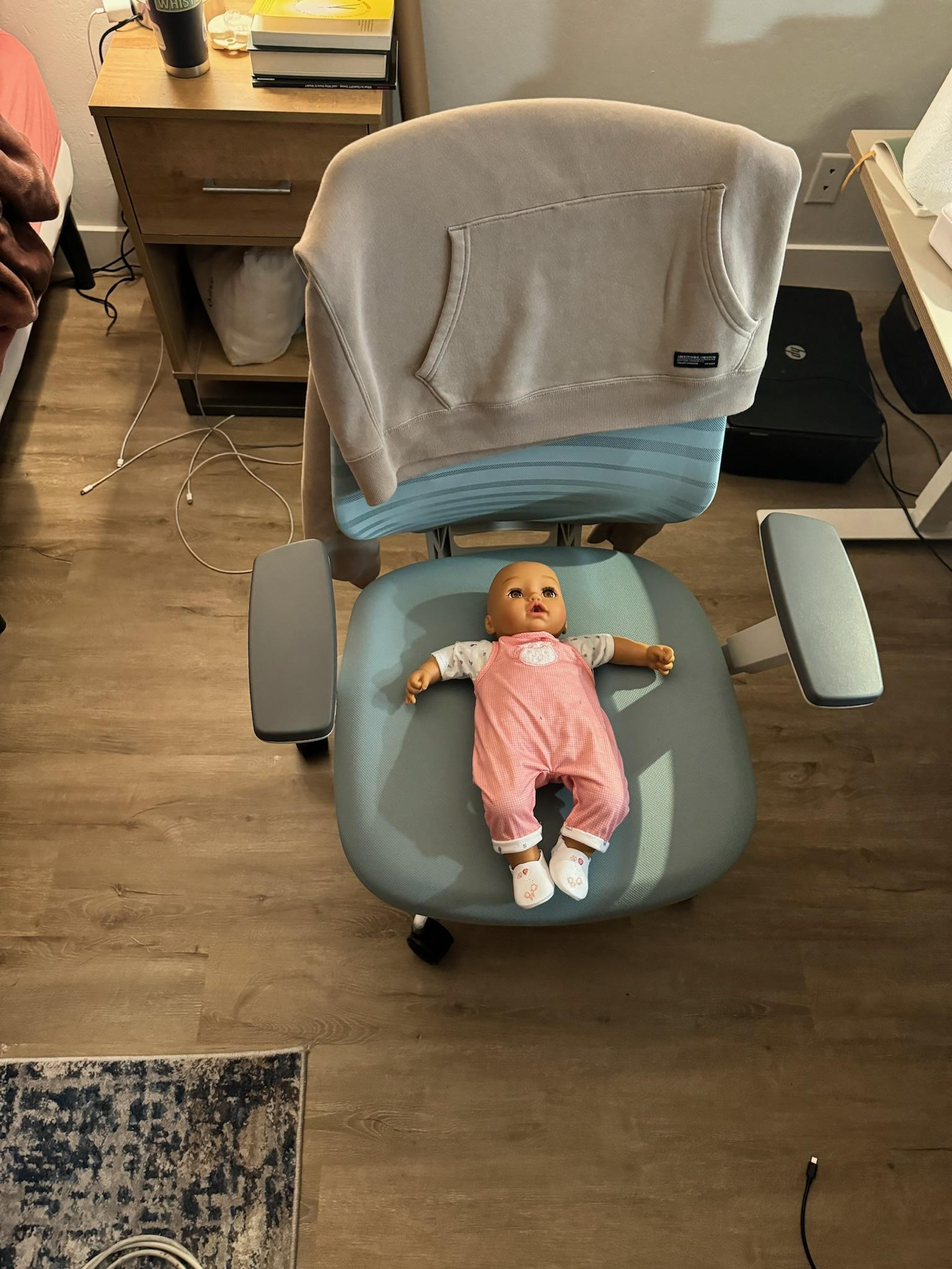baby: (401, 564, 667, 913)
